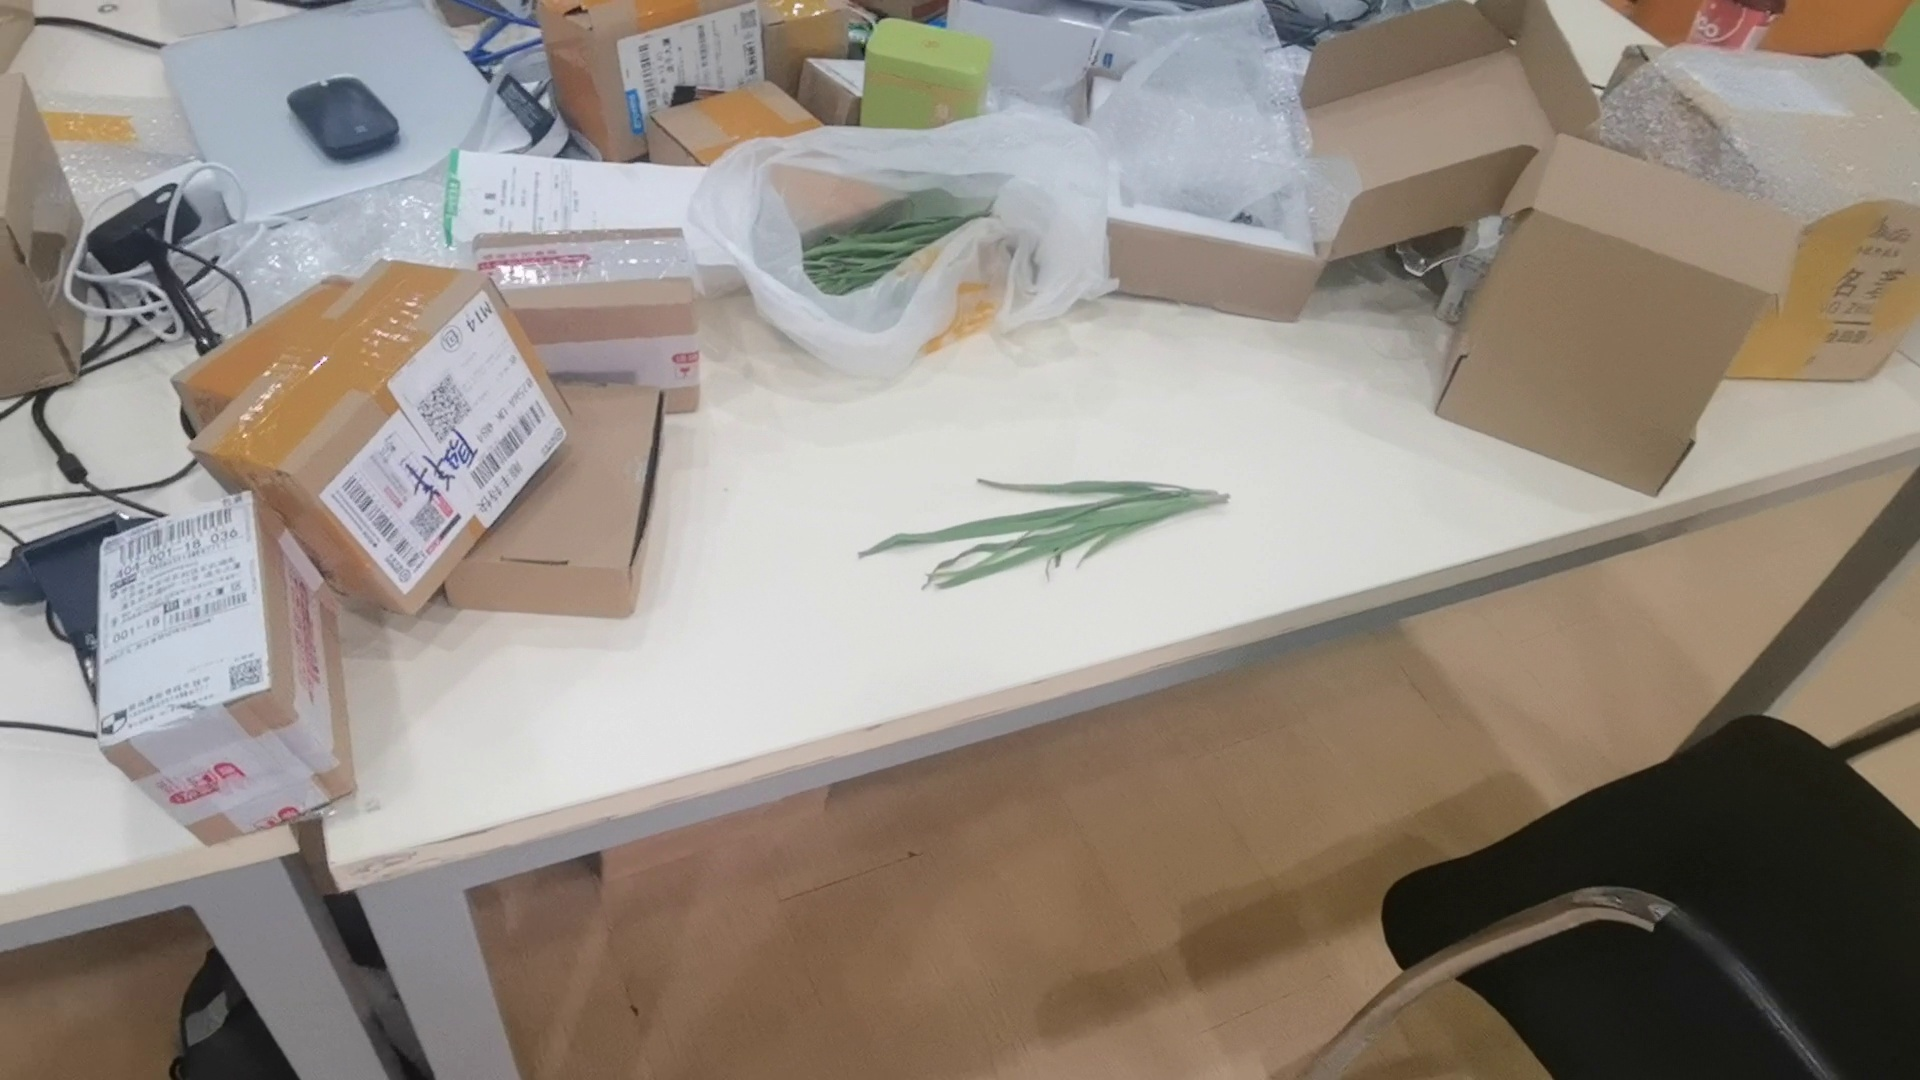chives: (837, 467, 1236, 618)
